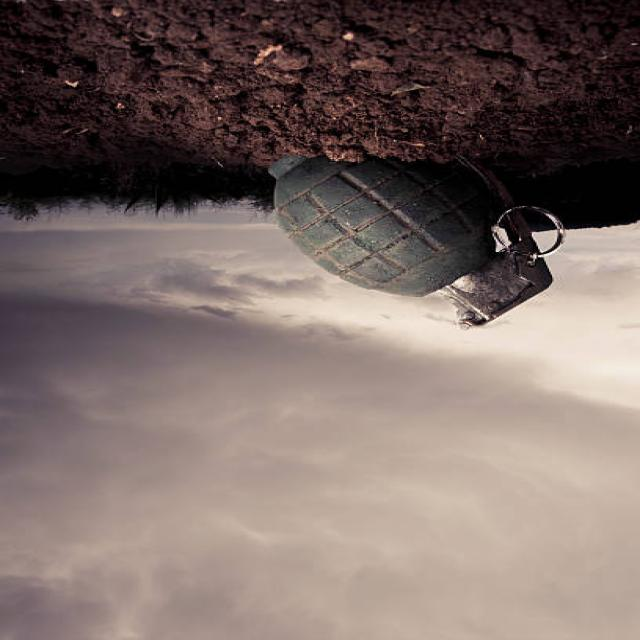grenade: (263, 133, 577, 345)
